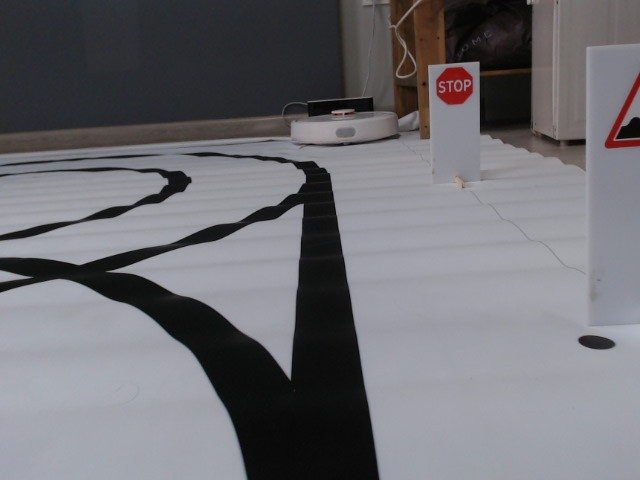Stop: (435, 66, 475, 106)
